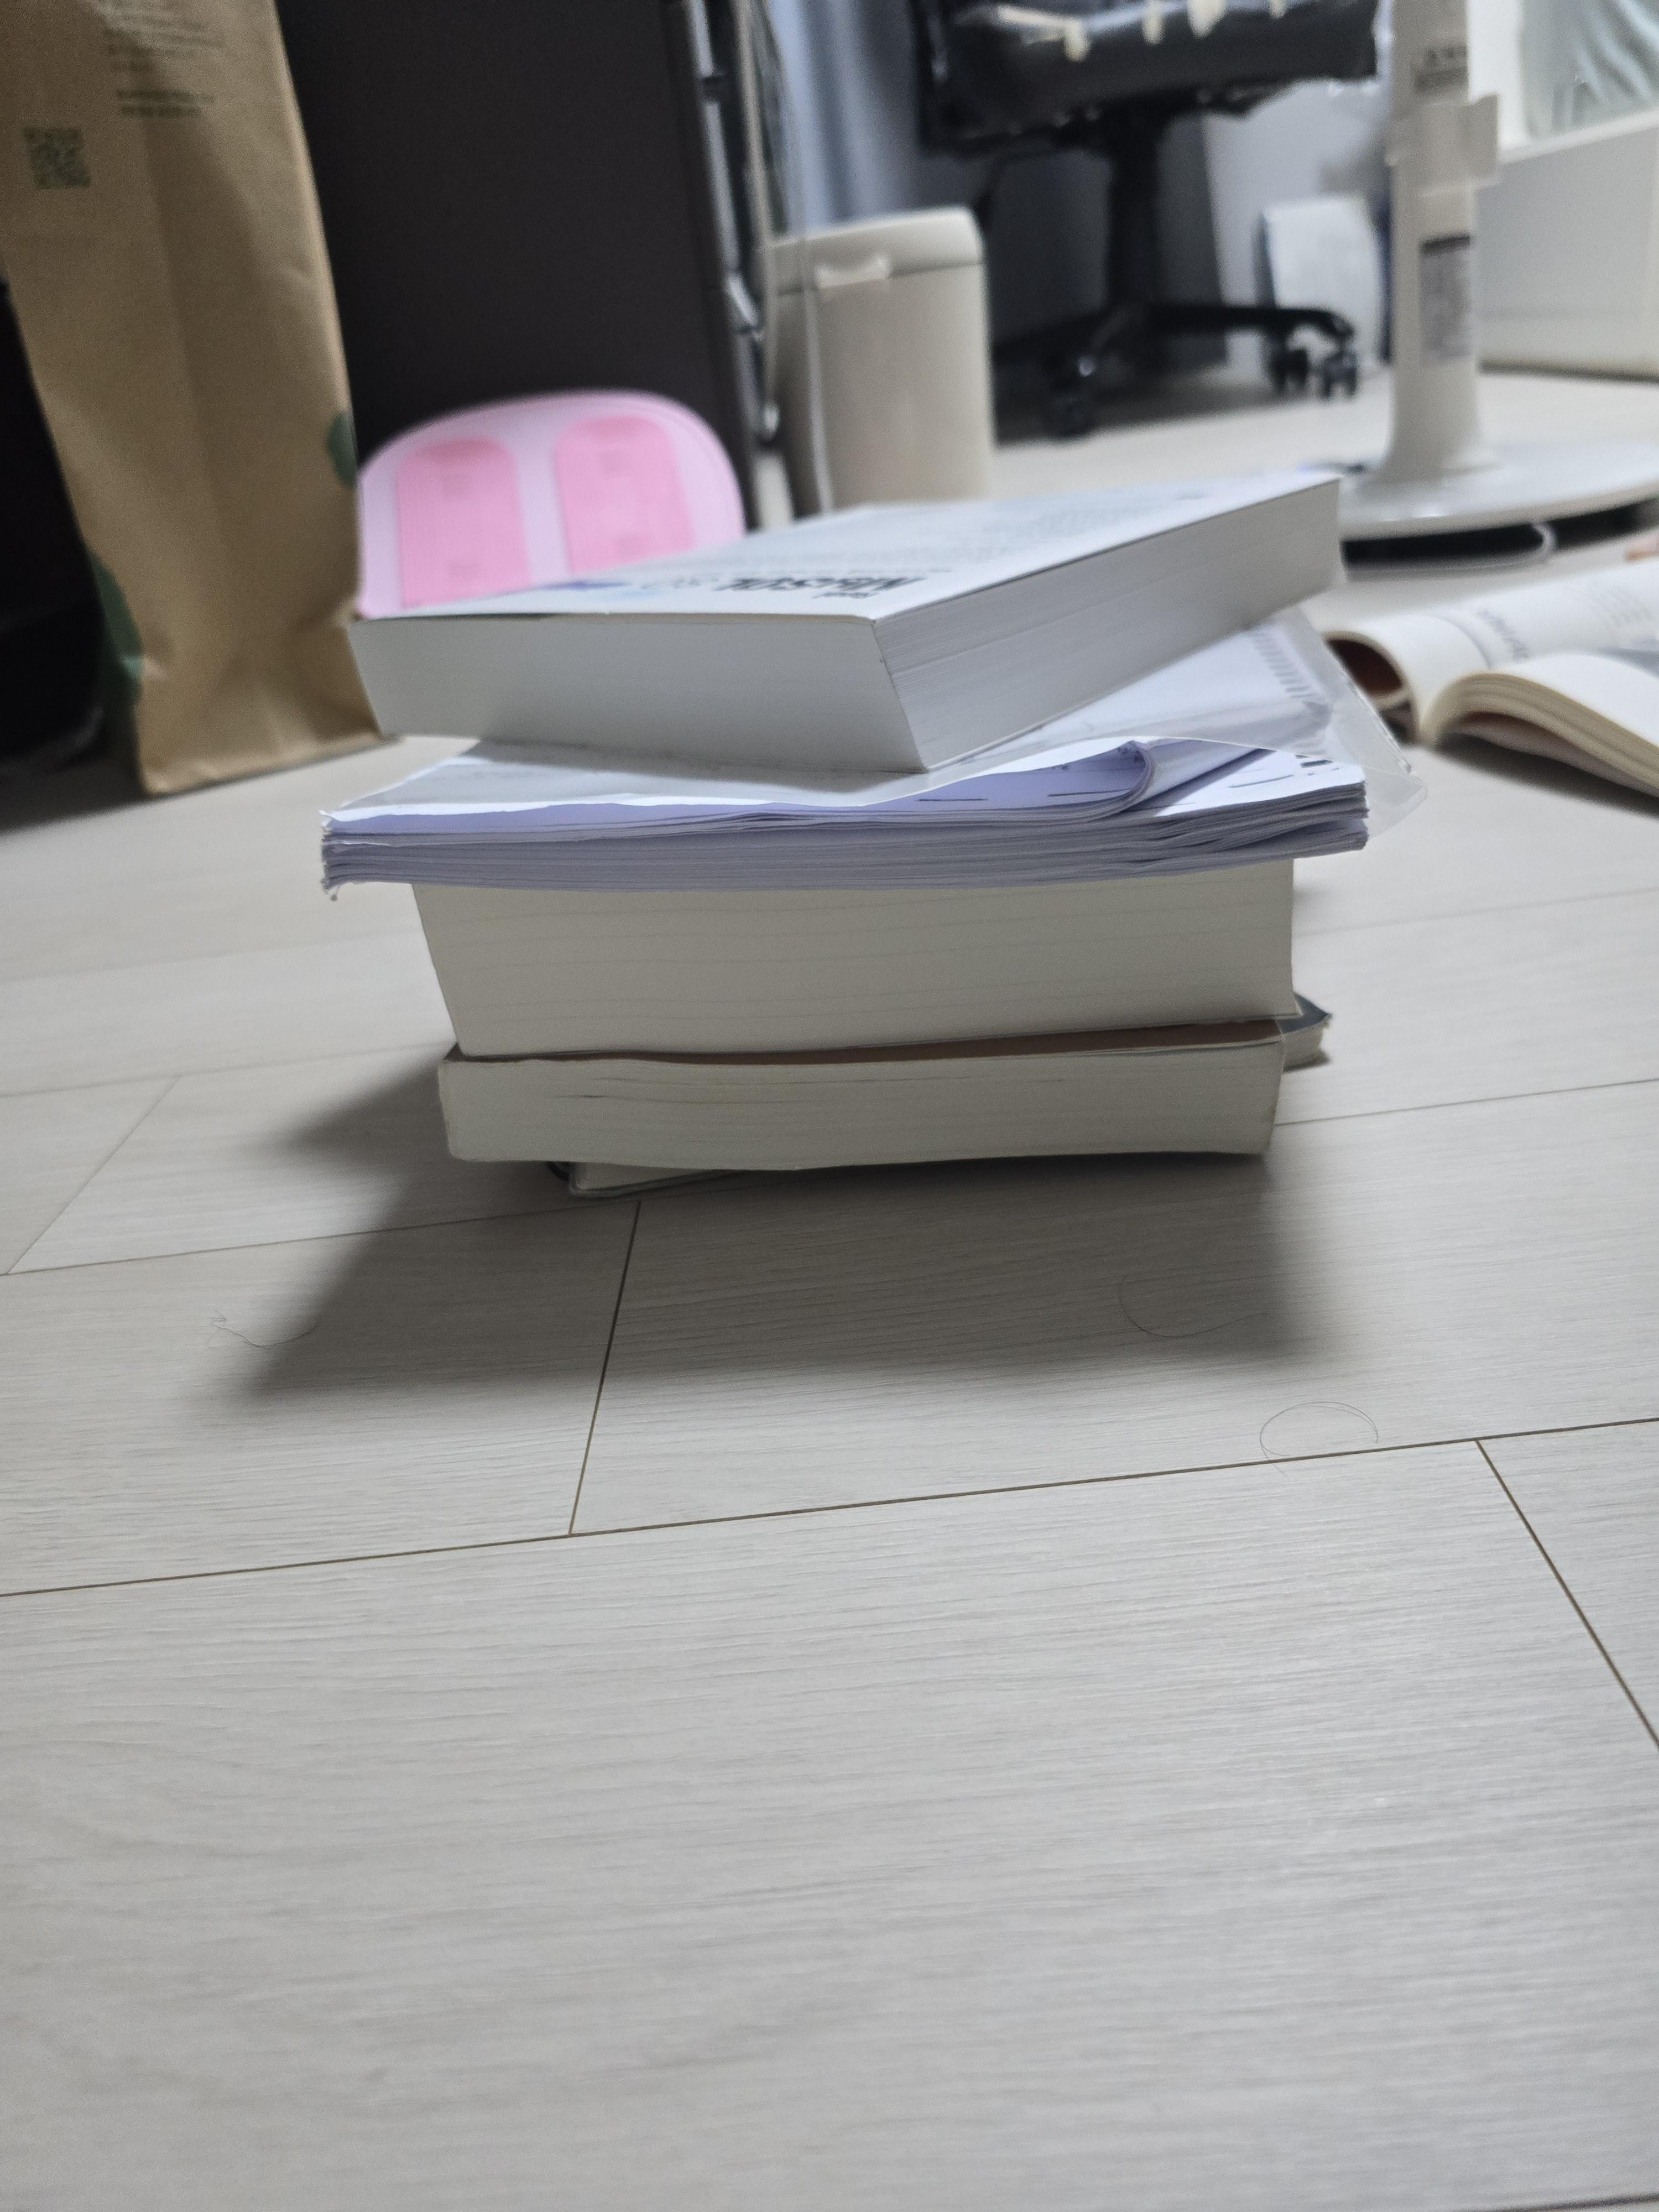book: (342, 463, 1349, 775), (436, 1001, 1302, 1198), (397, 885, 1358, 1035), (317, 772, 1380, 874), (1309, 552, 1657, 799)
